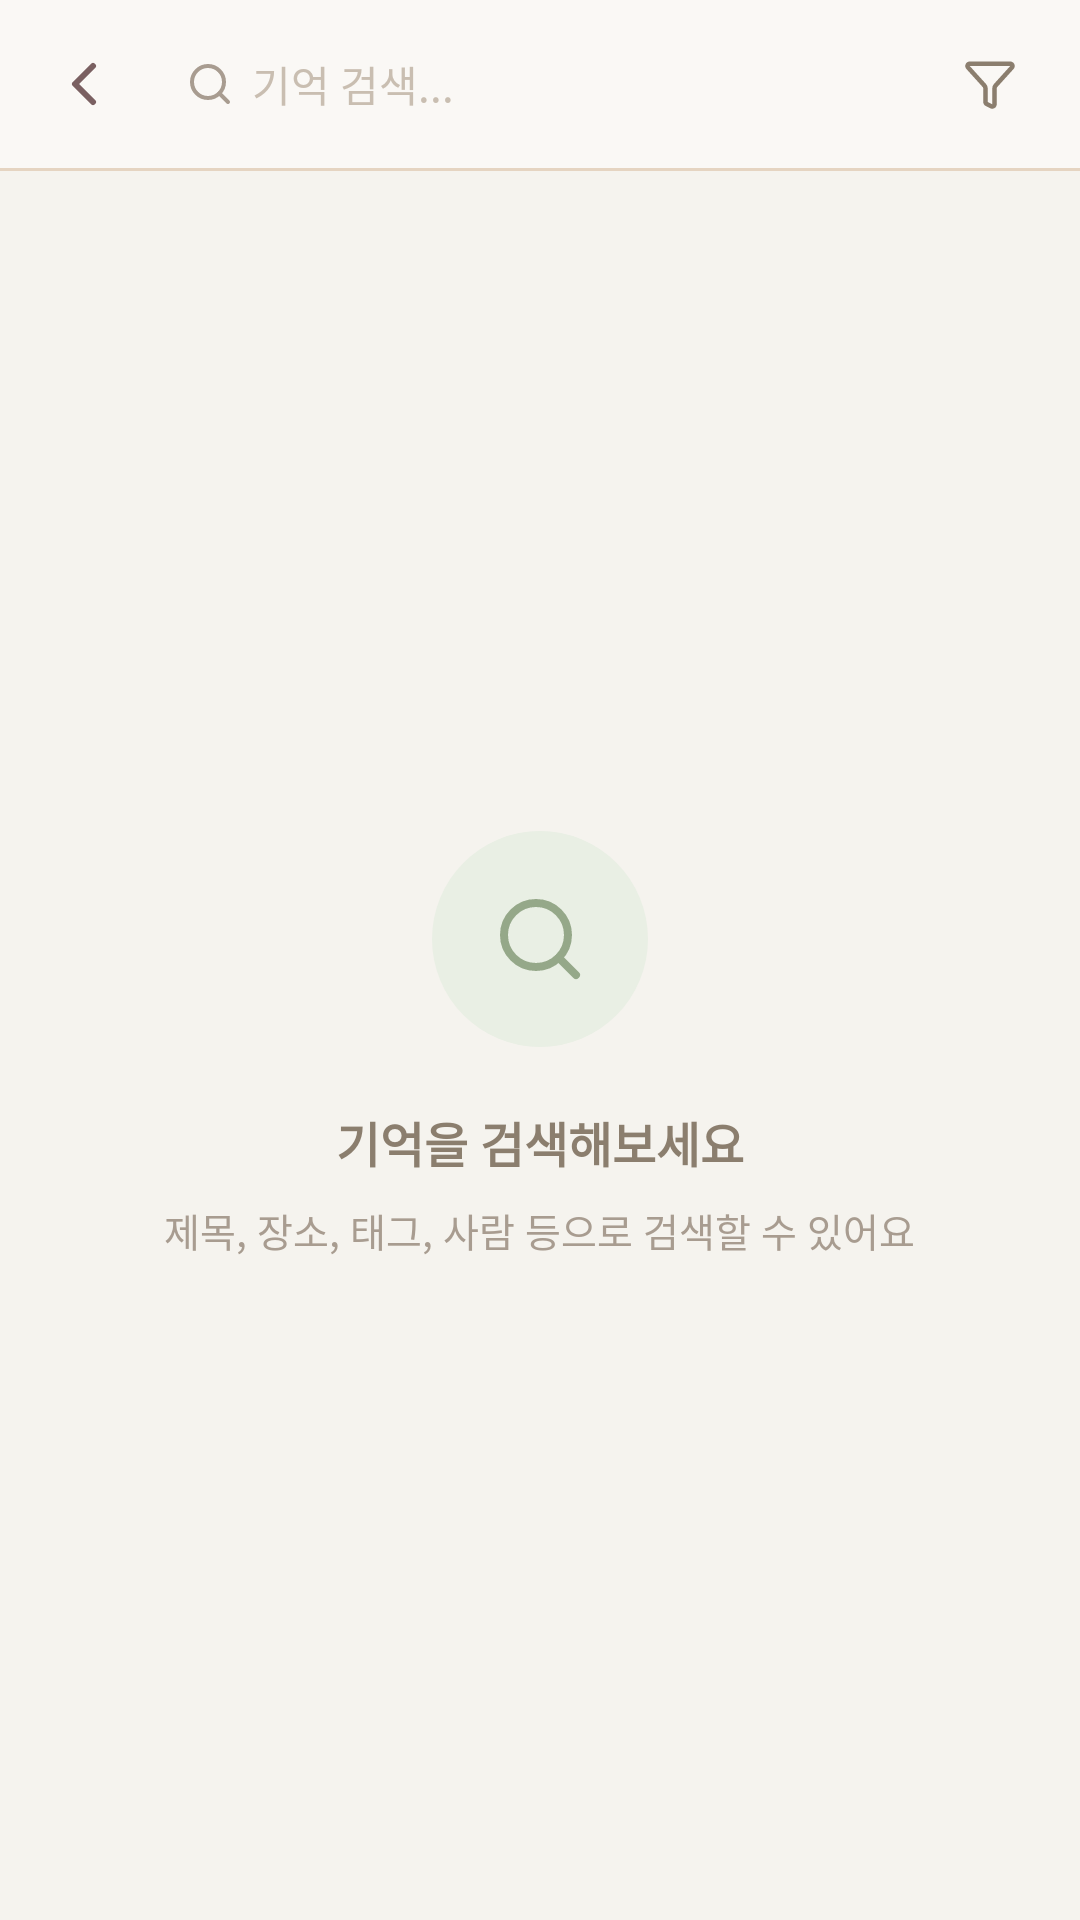

Point at icon controls on the screen. Image size 1080px x 1920px, points as (x=x, y=y).
chevron left: (x=84, y=84)
filter: (x=990, y=85)
search: (x=210, y=84), (x=540, y=939)
